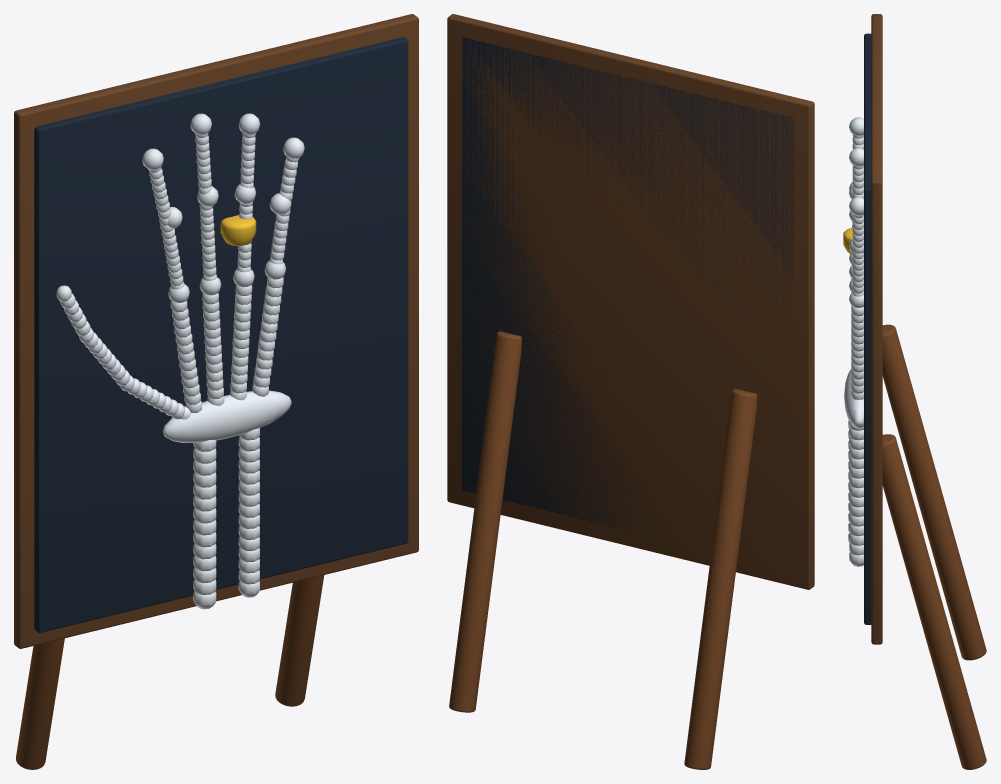
The model's file is xray_plate.glb.
3 renders of one model, left to right at view 1: azimuth 30°, elevation 25°; view 2: azimuth 150°, elevation 25°; view 3: azimuth 270°, elevation 25°, orthographic. The views are drawn at different scales.
Parts seen in each view (by area): view 1: xray_plate; view 2: xray_plate; view 3: xray_plate.
Boxes of the visible parts, bbox=[...] form: xray_plate: bbox=[14, 14, 418, 769]; xray_plate: bbox=[447, 14, 814, 769]; xray_plate: bbox=[843, 14, 986, 769].
Bounding box in the file's own units: 1.08 × 1.83 × 0.3871.
